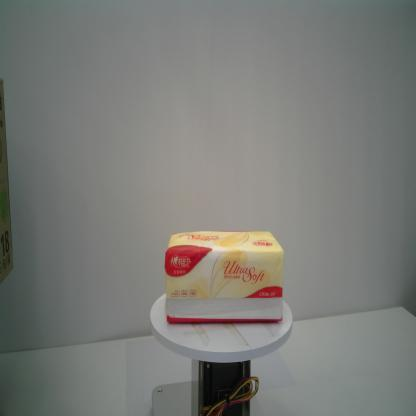Tissue: (164, 230, 284, 324)
